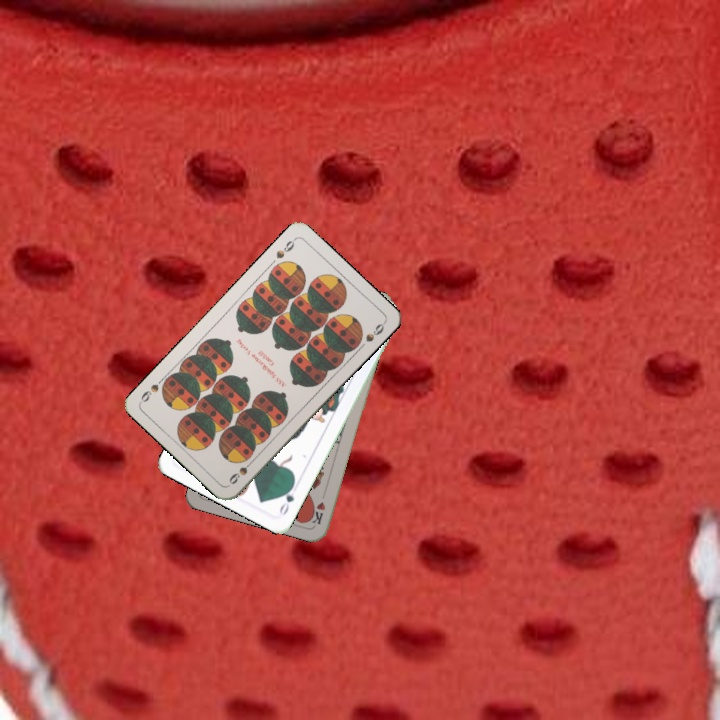GO: (275, 479, 297, 518)
HK: (307, 487, 329, 527)
S9: (225, 455, 257, 487), (272, 234, 298, 261)
